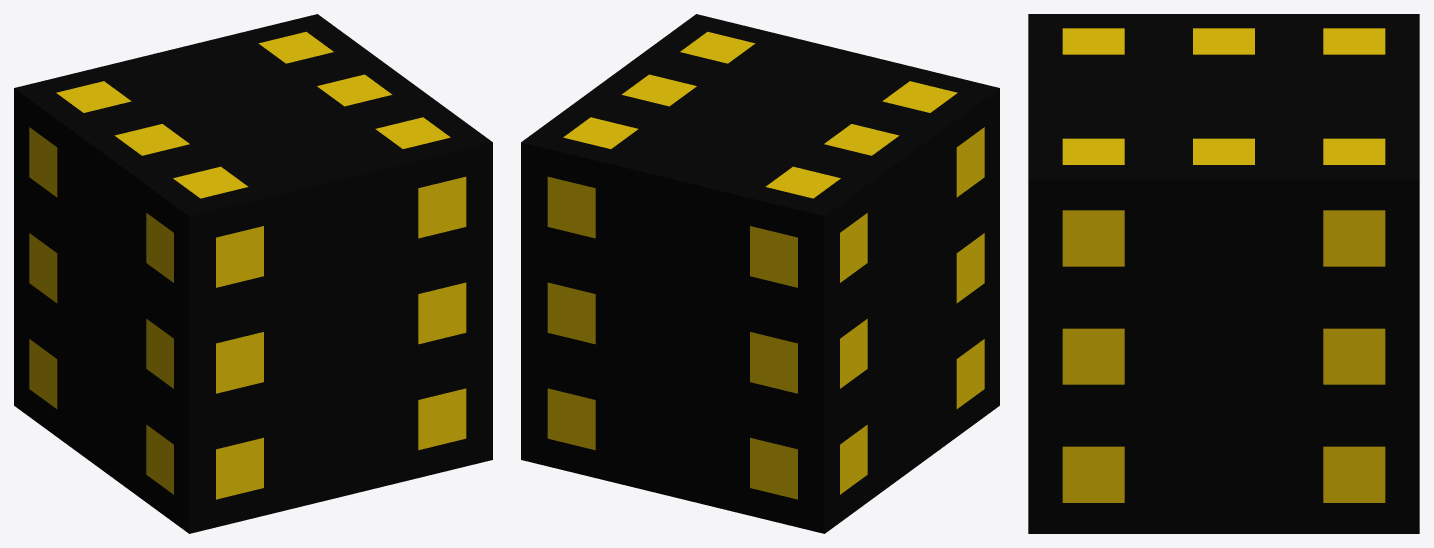
File: FrudDice3.fbx
3 renders of one model, left to right at view 1: azimuth 30°, elevation 25°; view 2: azimuth 150°, elevation 25°; view 3: azimuth 270°, elevation 25°, orthographic. The views are drawn at different scales.
Parts seen in each view (by area): view 1: Fraud.001; view 2: Fraud.001; view 3: Fraud.001.
Boxes of the visible parts, x1,y1,x2,y2 form: Fraud.001: (14,14,492,533); Fraud.001: (521,14,999,533); Fraud.001: (1028,14,1419,533).
Bounding box in the file's own units: 200 × 200 × 200.
